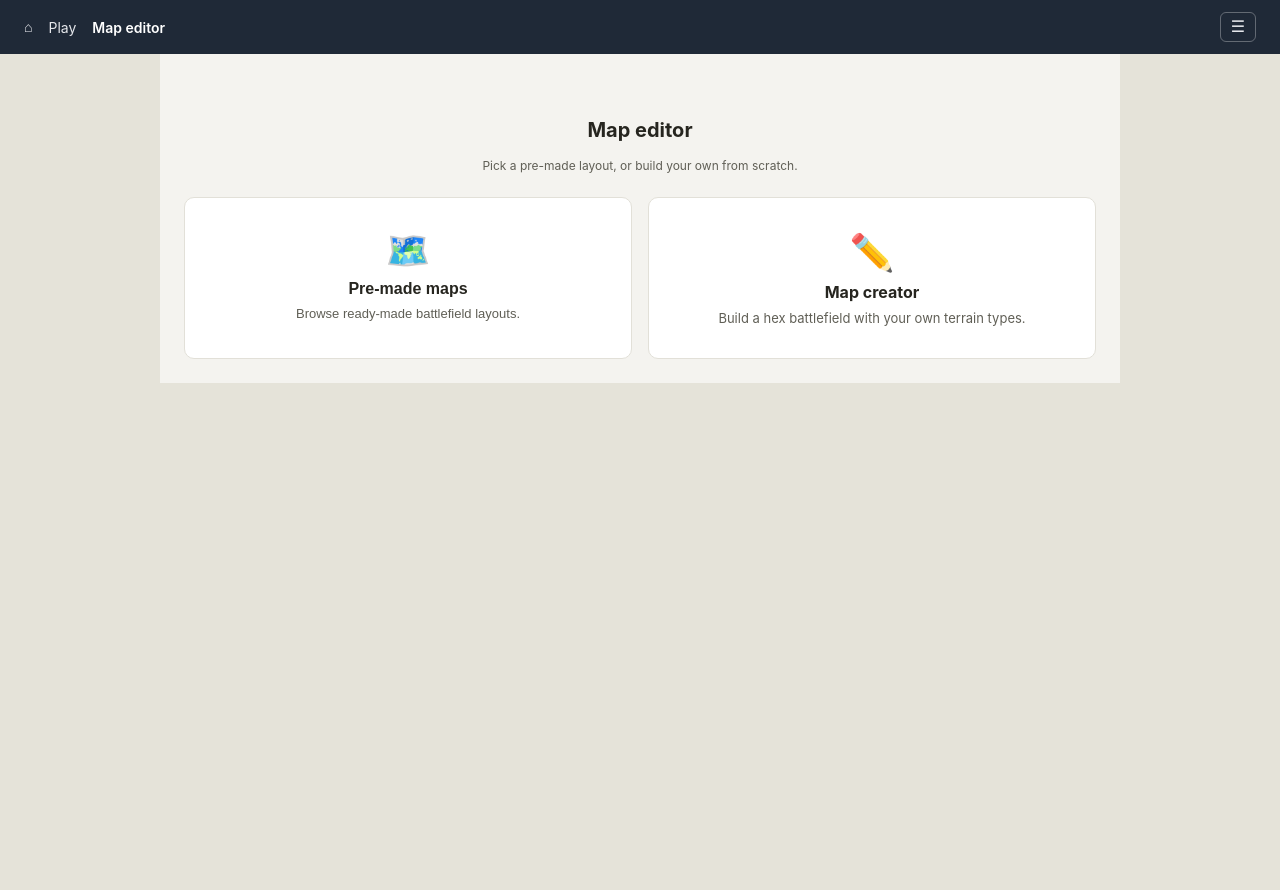
Test: App › splits the map editor into a #map layout picker and a #map/edit Creator (#218)
Expected: the field labelled "Columns" is not shown
Click the button "🗺️ Pre-made maps Browse ready-made battlefield layouts." at (408, 278), box [184,197,632,359]
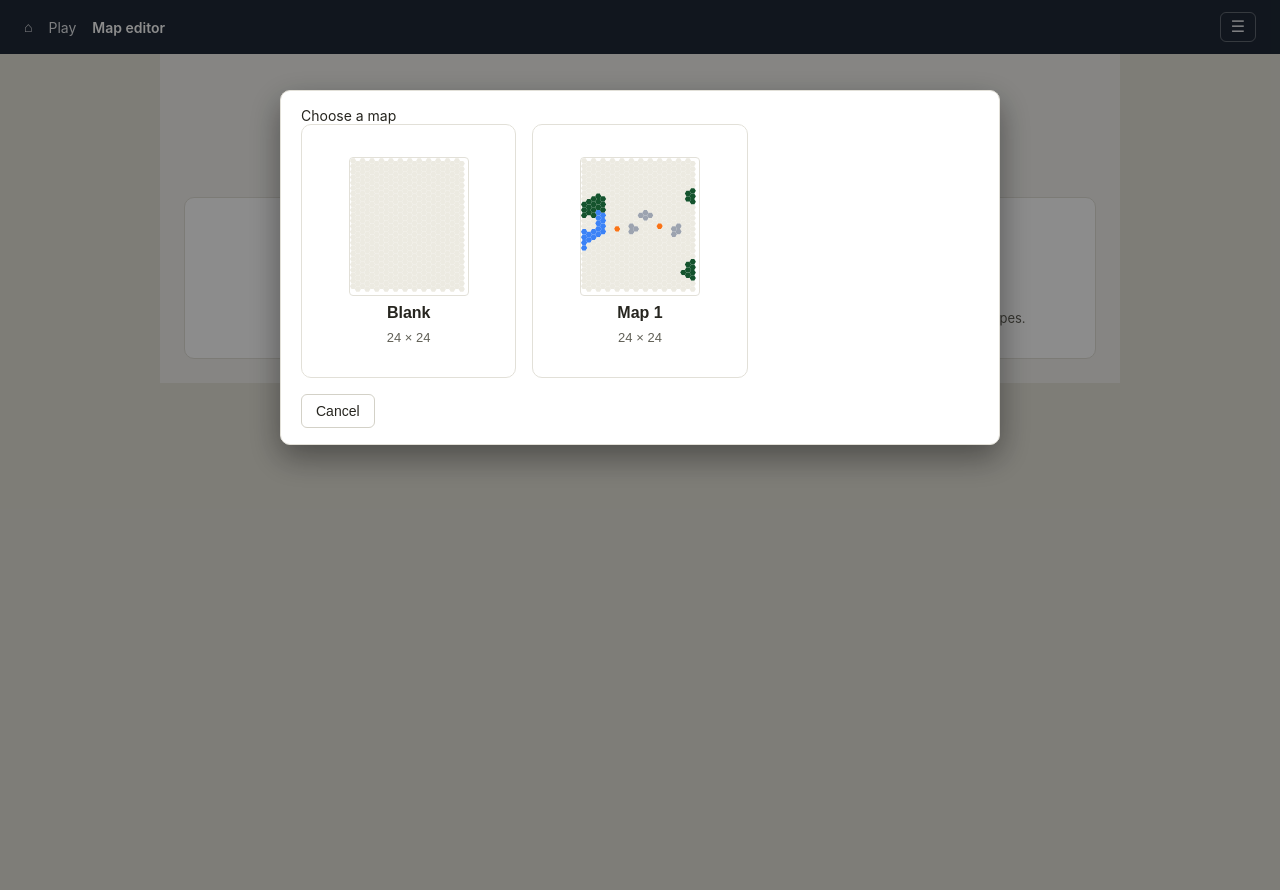
Click the button "Blank 24 × 24" at (409, 251), box [301,124,516,378]
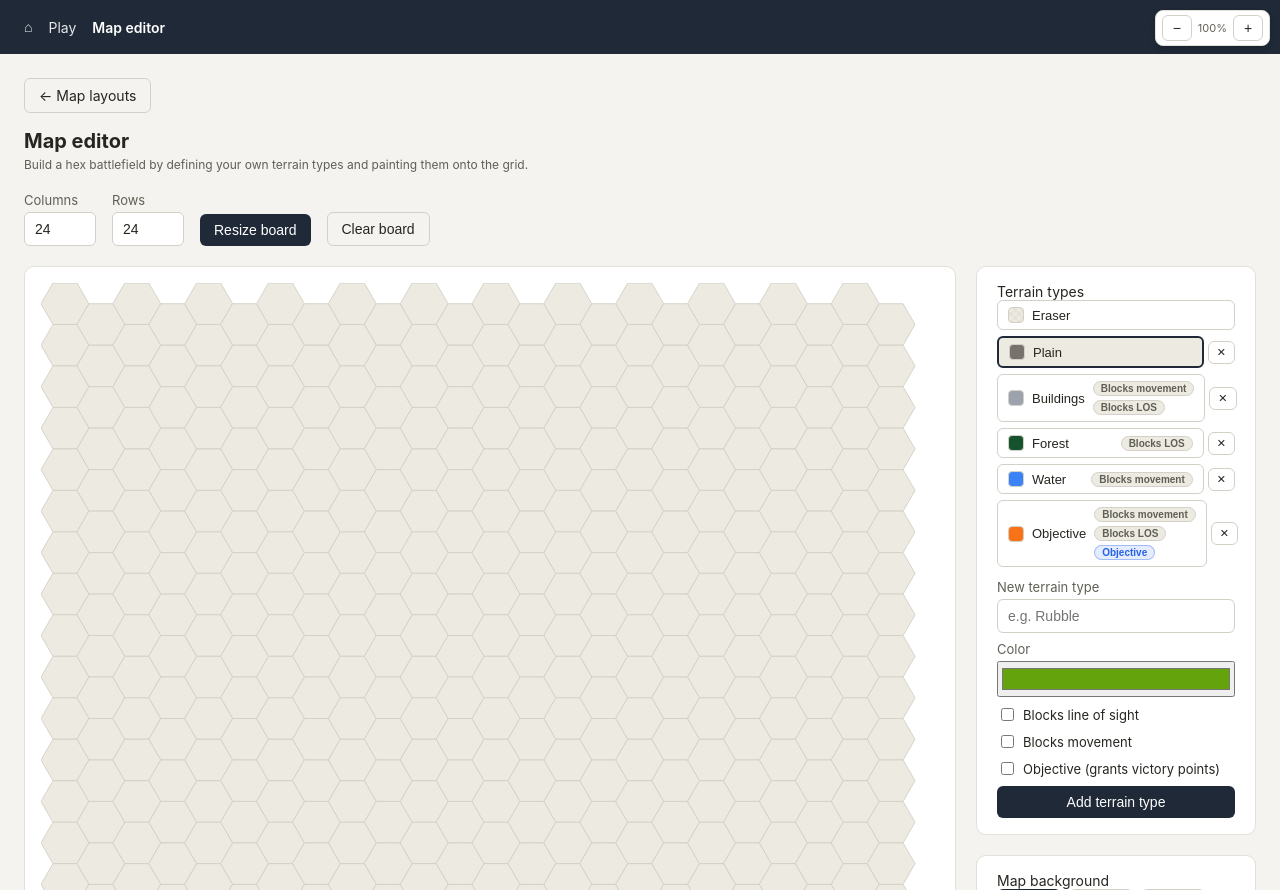
Now the number field labelled "Columns" is shown, box [24,212,96,246]
Now the link "← Map layouts" is shown, box [24,78,152,113]
